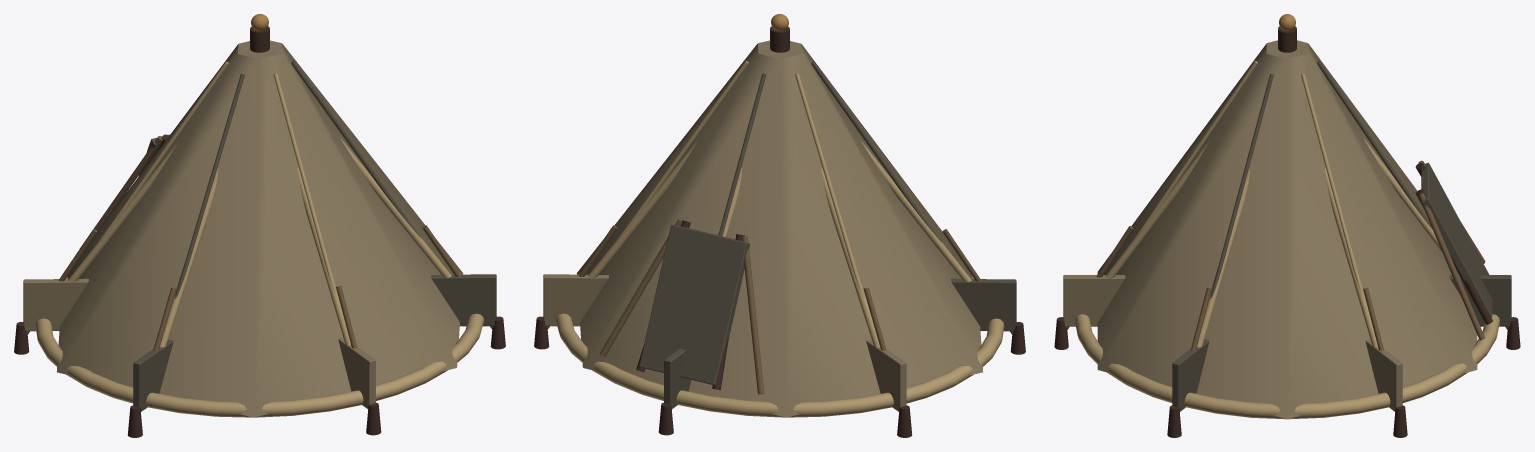
File: extra_command_tent.glb
3 renders of one model, left to right at view 1: azimuth 30°, elevation 25°; view 2: azimuth 150°, elevation 25°; view 3: azimuth 270°, elevation 25°, orthographic.
Visible parts, largest first — view 1: cloth; view 2: cloth; view 3: cloth.
Boxes of the visible parts, <box> form: cloth: <box>14,14,505,437</box>; cloth: <box>534,14,1025,437</box>; cloth: <box>1054,14,1520,437</box>.
Size of the model in its own units: 2.8 by 2.2 by 2.8.
